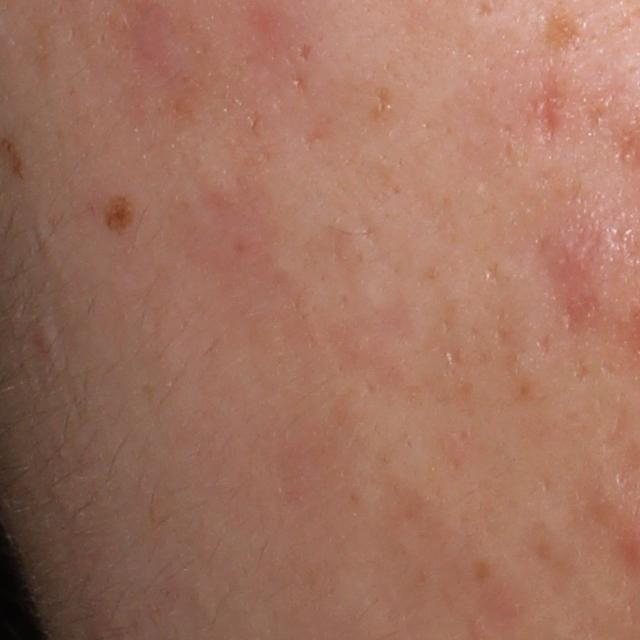atrophic_scar: (533, 77, 565, 150), (287, 69, 311, 97), (532, 331, 554, 358), (297, 41, 316, 62)
nevus: (78, 191, 154, 260)
